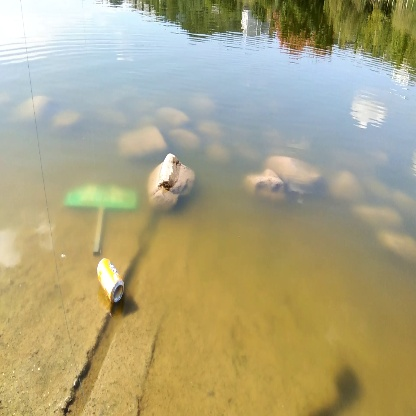bottle: (92, 255, 128, 304)
